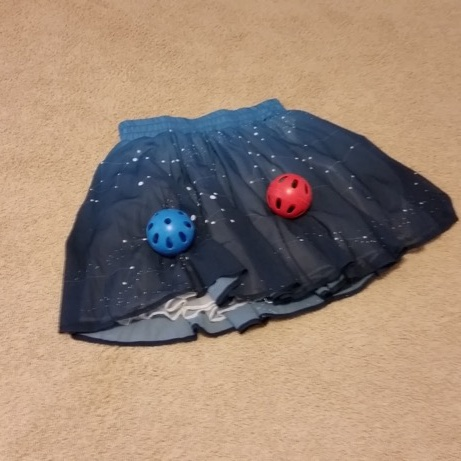blueball: (142, 205, 200, 259)
redball: (261, 173, 317, 221)
